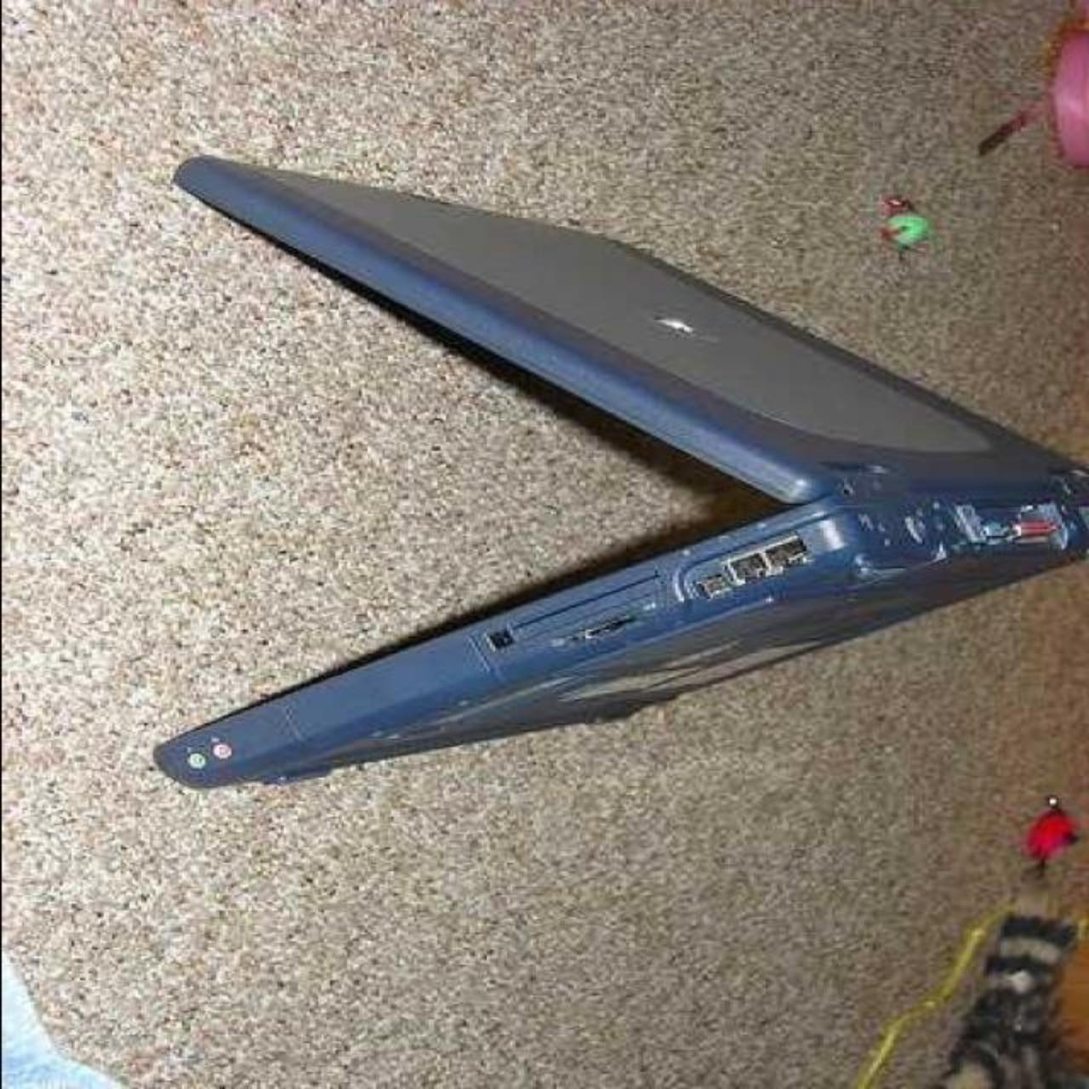laptop: (143, 84, 1089, 828)
